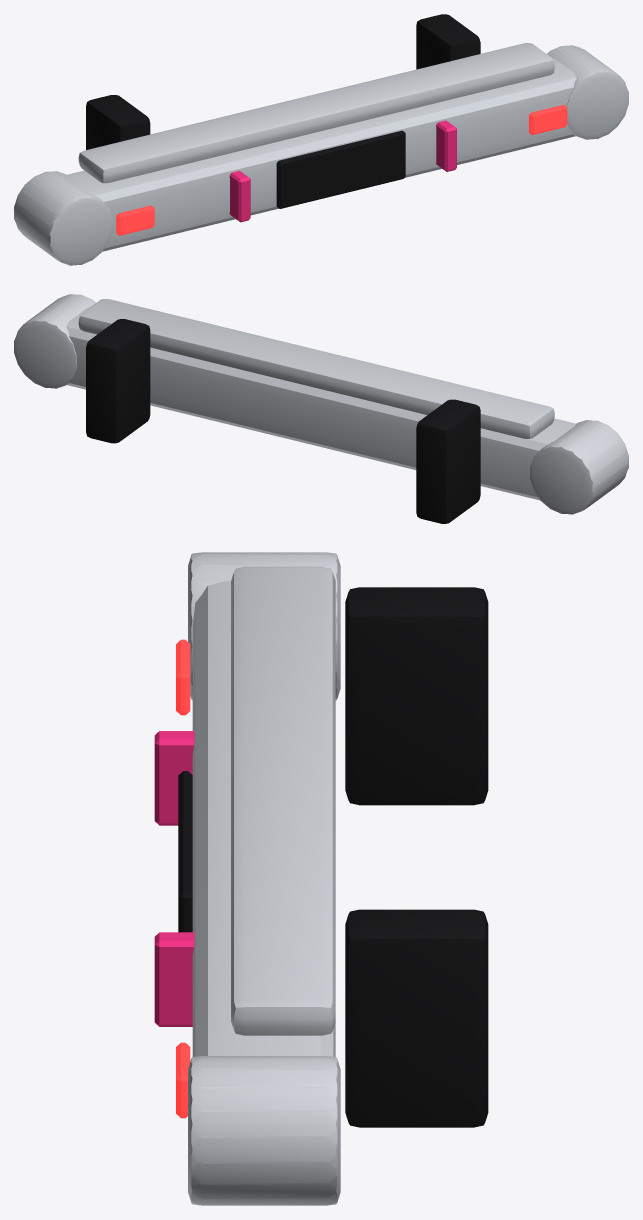
The model's file is rb_decorative.glb.
The picture shows the model from 3 angles, top to bottom: view 1: azimuth 30°, elevation 25°; view 2: azimuth 150°, elevation 25°; view 3: azimuth 270°, elevation 25°; orthographic projection. The views are drawn at different scales.
Visible parts, largest first — view 1: chrome, plastic_black, paint_pink, lamp_red; view 2: chrome, plastic_black; view 3: chrome, plastic_black, paint_pink, lamp_red.
Part boxes in pixels (x1=…): chrome: x1=14, y1=43, x2=628, y2=265; plastic_black: x1=86, y1=14, x2=480, y2=208; paint_pink: x1=229, y1=120, x2=456, y2=222; lamp_red: x1=116, y1=104, x2=567, y2=235; chrome: x1=14, y1=294, x2=628, y2=514; plastic_black: x1=86, y1=319, x2=480, y2=523; chrome: x1=188, y1=552, x2=340, y2=1205; plastic_black: x1=178, y1=587, x2=488, y2=1127; paint_pink: x1=154, y1=731, x2=194, y2=1026; lamp_red: x1=176, y1=639, x2=190, y2=1118.
Size of the model in its own units: 2.82 by 0.45 by 0.7.
